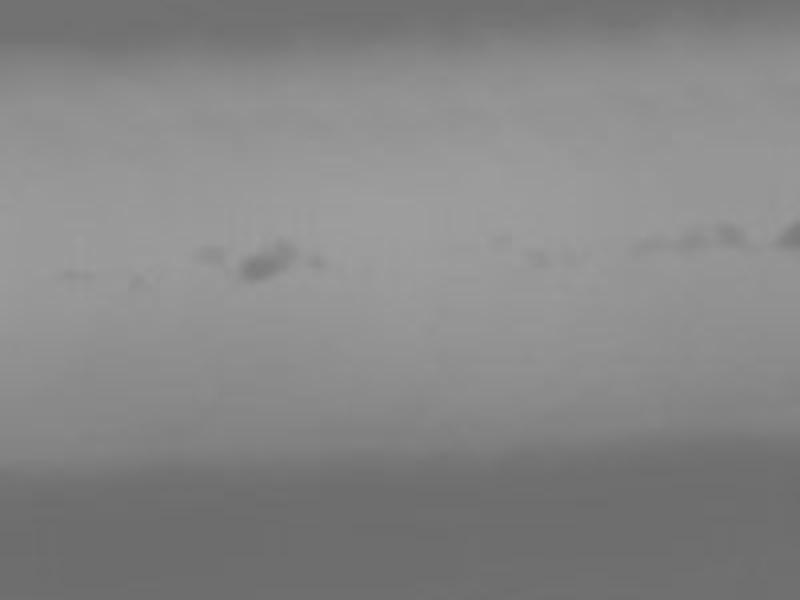defect: (627, 230, 674, 256), (244, 255, 274, 285), (715, 223, 747, 251), (777, 211, 799, 251), (684, 223, 708, 256), (277, 236, 296, 275), (525, 253, 549, 274), (306, 254, 334, 270), (200, 247, 227, 263)
